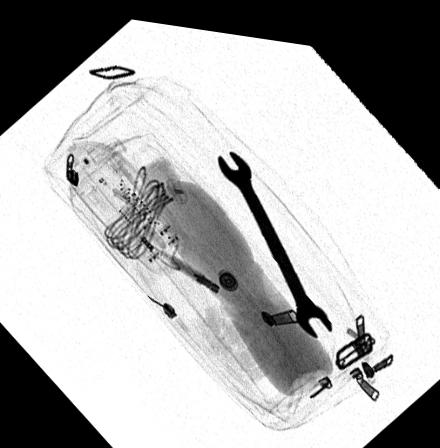Wrench: (215, 143, 331, 331)
